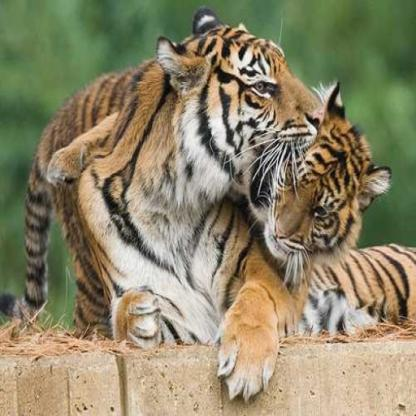Tiger: (21, 27, 317, 390), (263, 92, 413, 368)
